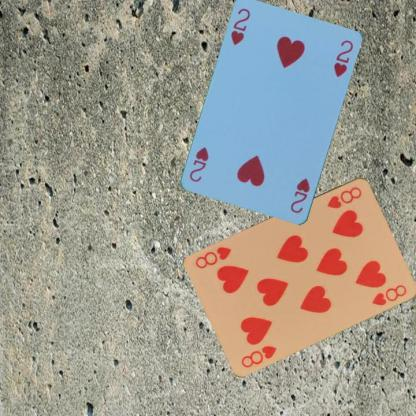2h: (228, 6, 251, 47), (288, 176, 311, 215)
8h: (238, 342, 278, 369), (324, 184, 364, 209)
